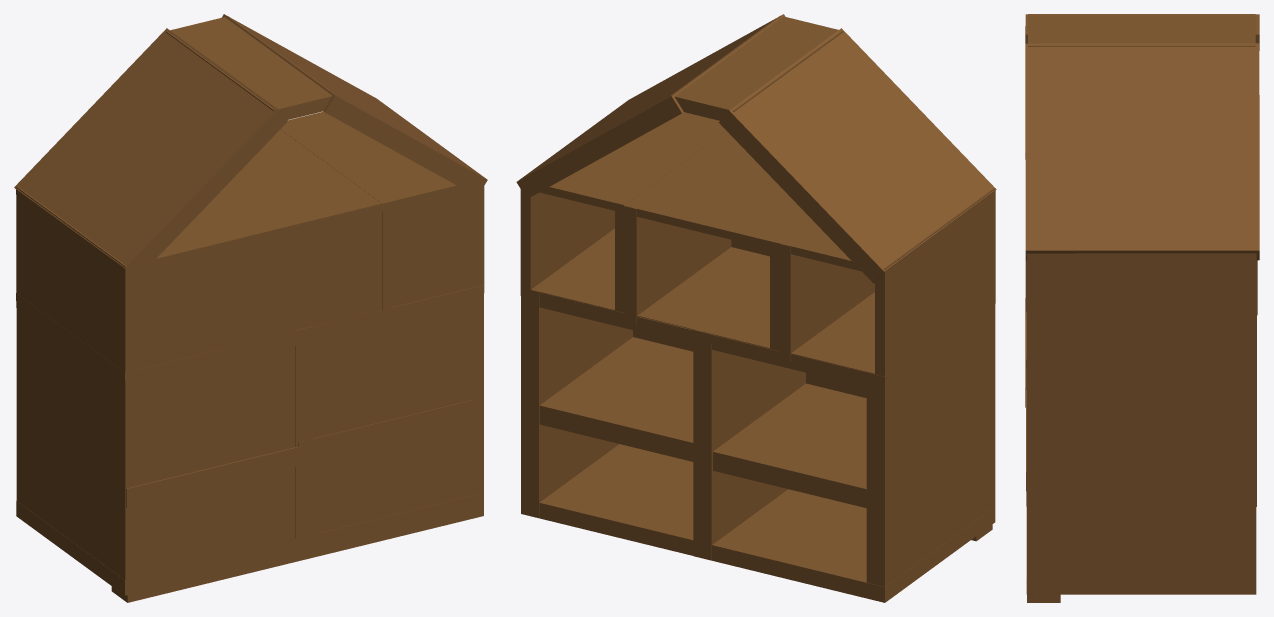
File: Librero.obj
3 renders of one model, left to right at view 1: azimuth 30°, elevation 25°; view 2: azimuth 150°, elevation 25°; view 3: azimuth 270°, elevation 25°, orthographic. The views are drawn at different scales.
Visible parts, largest first — view 1: polySurface13; view 2: polySurface13; view 3: polySurface13.
Part boxes in pixels (left/top/right/bottom): polySurface13: left=14, top=14, right=487, bottom=602; polySurface13: left=516, top=14, right=996, bottom=602; polySurface13: left=1025, top=14, right=1259, bottom=602.
Size of the model in its own units: 1.46 by 1.75 by 0.7722.
Materials: 4 (4 with a texture image).
